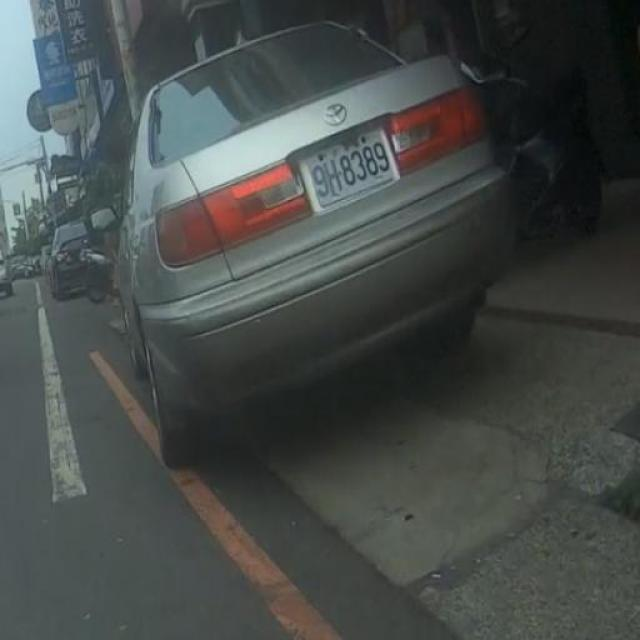illegalparking: (78, 8, 536, 452)
